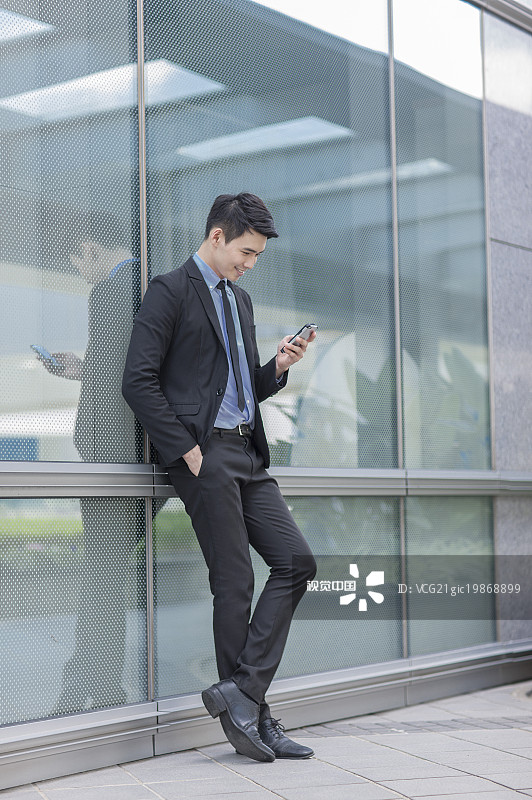reading: (266, 315, 335, 381)
